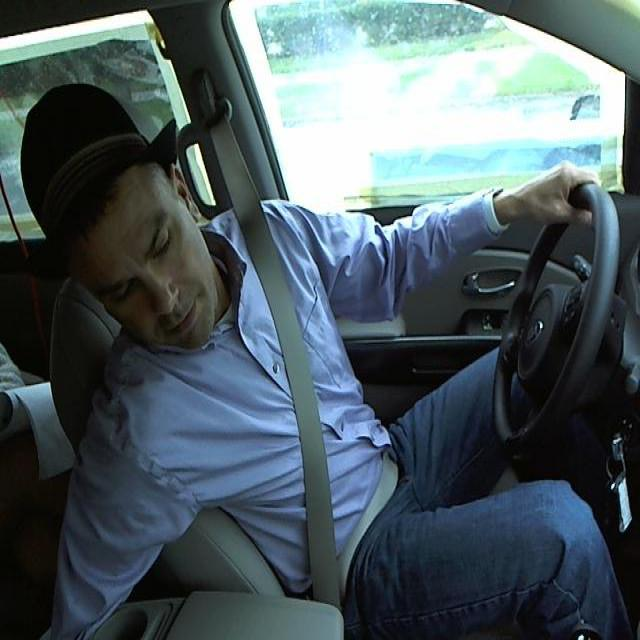seatbelt: (199, 133, 384, 610)
